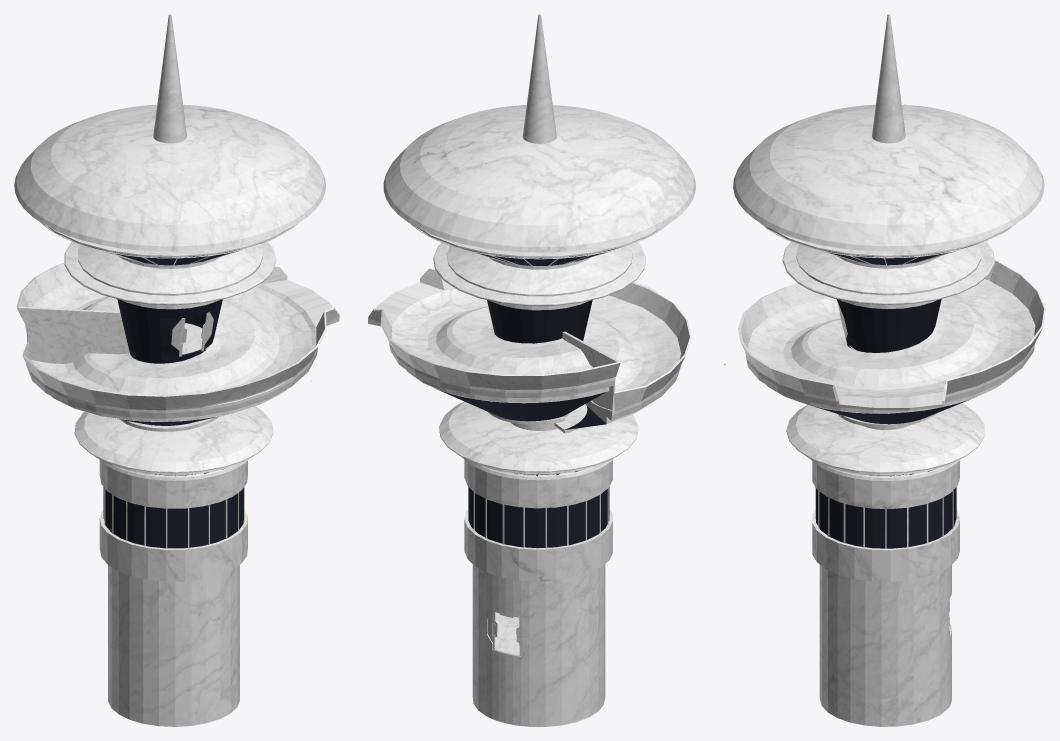
File: Center building new.fbx
3 renders of one model, left to right at view 1: azimuth 30°, elevation 25°; view 2: azimuth 150°, elevation 25°; view 3: azimuth 270°, elevation 25°, orthographic.
Parts seen in each view (by area): view 1: Center_building1; view 2: Center_building1; view 3: Center_building1.
Part boxes in pixels (left/top/right/bottom): Center_building1: left=14, top=14, right=339, bottom=726; Center_building1: left=368, top=14, right=695, bottom=726; Center_building1: left=724, top=14, right=1045, bottom=726.
Size of the model in its own units: 1898 by 4323 by 1845.
2 materials, 1 textured.
